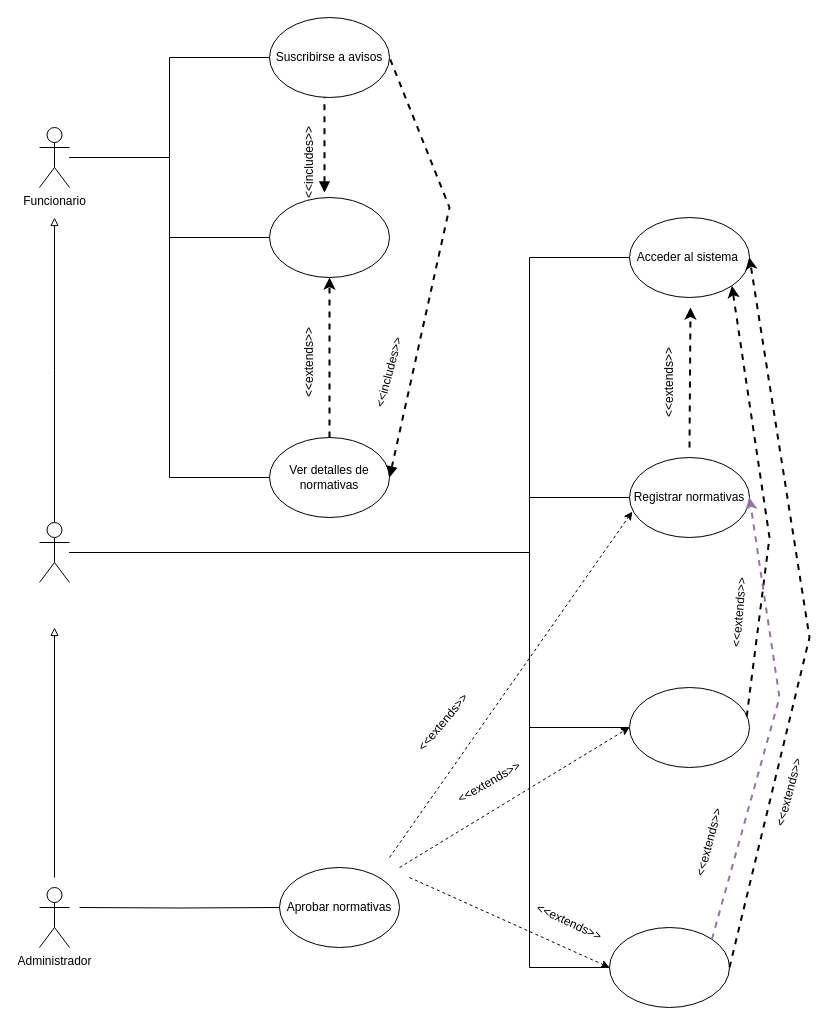
Some shapes in this 835 by 1025 pixel diagram are drawn without their labels. The shapes that lost their labels are listed below. From the top down, each one's box as (x1, y1, x2, y2) in pixels, then its label:
(268, 196, 390, 278): Buscar normativas
(38, 522, 70, 582): Registrador
(628, 686, 750, 768): Borrar normativas
(608, 926, 730, 1008): Reemplazar normativas
